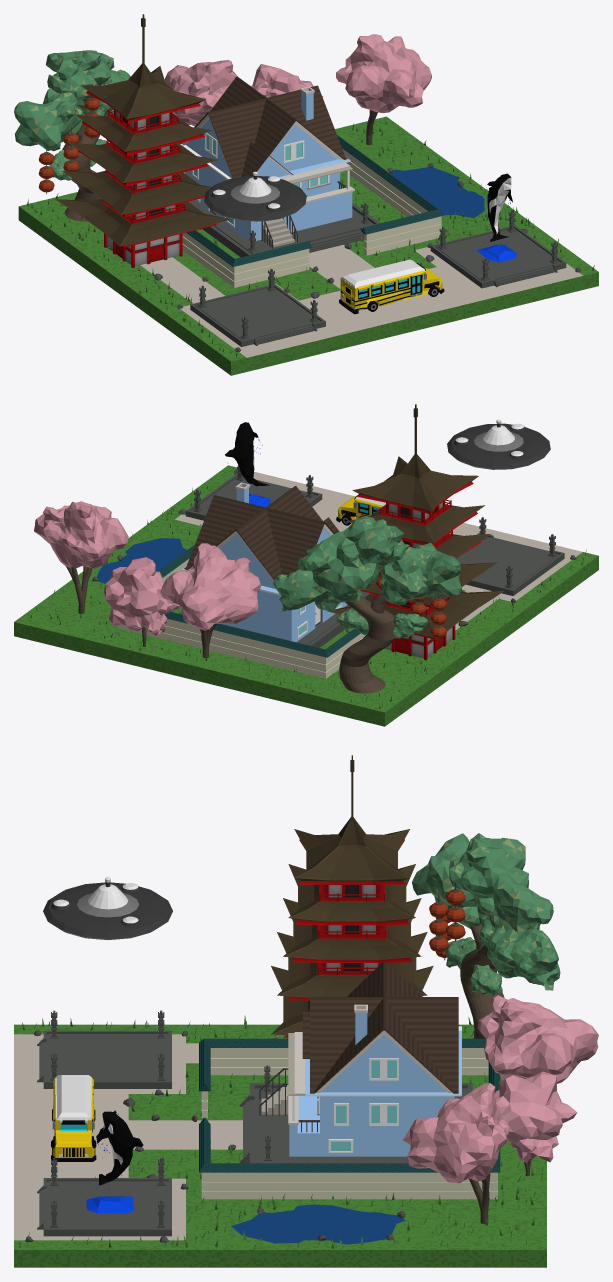
3 views of the same model, one above another, from view 1: azimuth 30°, elevation 25°; view 2: azimuth 150°, elevation 25°; view 3: azimuth 270°, elevation 25° (orthographic). The views are drawn at different scales.
Parts seen in each view (by area): view 1: Cube.005, Cube.1594, OBJRANDOM_UFO, VEHICLES_SCHOOL_BUS, ANIMAL_ORCA; view 2: Cube.005, Cube.1594, OBJRANDOM_UFO, ANIMAL_ORCA, VEHICLES_SCHOOL_BUS; view 3: Cube.005, Cube.1594, OBJRANDOM_UFO, VEHICLES_SCHOOL_BUS, ANIMAL_ORCA.
Part boxes in pixels (x1,y1,x2,y2): Cube.005: (14, 14, 598, 375); Cube.1594: (179, 76, 354, 248); OBJRANDOM_UFO: (204, 171, 306, 221); VEHICLES_SCHOOL_BUS: (339, 259, 444, 314); ANIMAL_ORCA: (476, 173, 516, 262); Cube.005: (14, 404, 598, 726); Cube.1594: (181, 482, 347, 642); OBJRANDOM_UFO: (447, 419, 550, 469); ANIMAL_ORCA: (225, 422, 270, 507); VEHICLES_SCHOOL_BUS: (336, 494, 385, 525); Cube.005: (14, 755, 598, 1267); Cube.1594: (259, 961, 461, 1156); OBJRANDOM_UFO: (43, 877, 172, 939); VEHICLES_SCHOOL_BUS: (51, 1075, 96, 1161); ANIMAL_ORCA: (86, 1110, 143, 1213).
Bounding box in the file's own units: 4528 × 2693 × 4389.
Materials: 41 (5 with a texture image).
